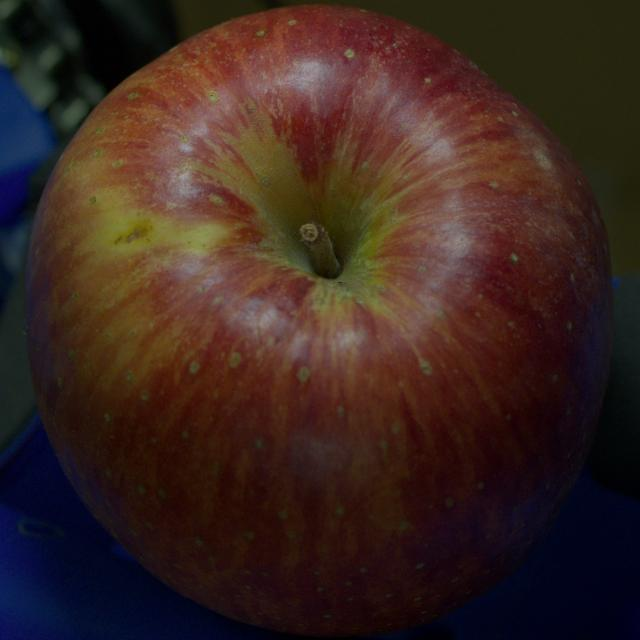apple: (26, 6, 612, 635)
scratch: (116, 224, 150, 243)
